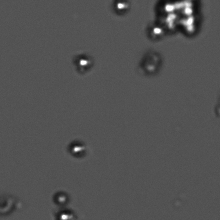Dead Cell: (138, 47, 164, 72), (1, 190, 21, 216)
Living Cell: (161, 1, 203, 37), (71, 50, 97, 73), (70, 142, 93, 165), (47, 187, 73, 204), (112, 1, 133, 21), (147, 21, 168, 39), (53, 207, 76, 220)
